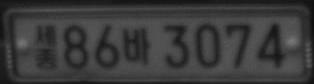0: (194, 23, 221, 68)
3: (163, 23, 190, 68)
4: (256, 22, 288, 69)
6: (94, 23, 120, 68)
7: (225, 23, 251, 68)
8: (62, 23, 88, 70)
바: (123, 27, 152, 64)
세종_V: (33, 24, 58, 70)
